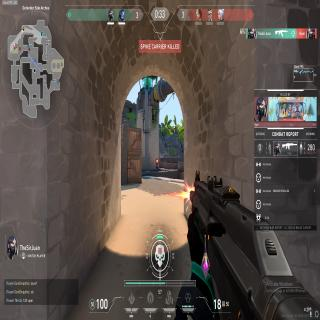ENEMY-BODY: (155, 157, 159, 171)
ENEMY-HEAD: (156, 157, 157, 160)
